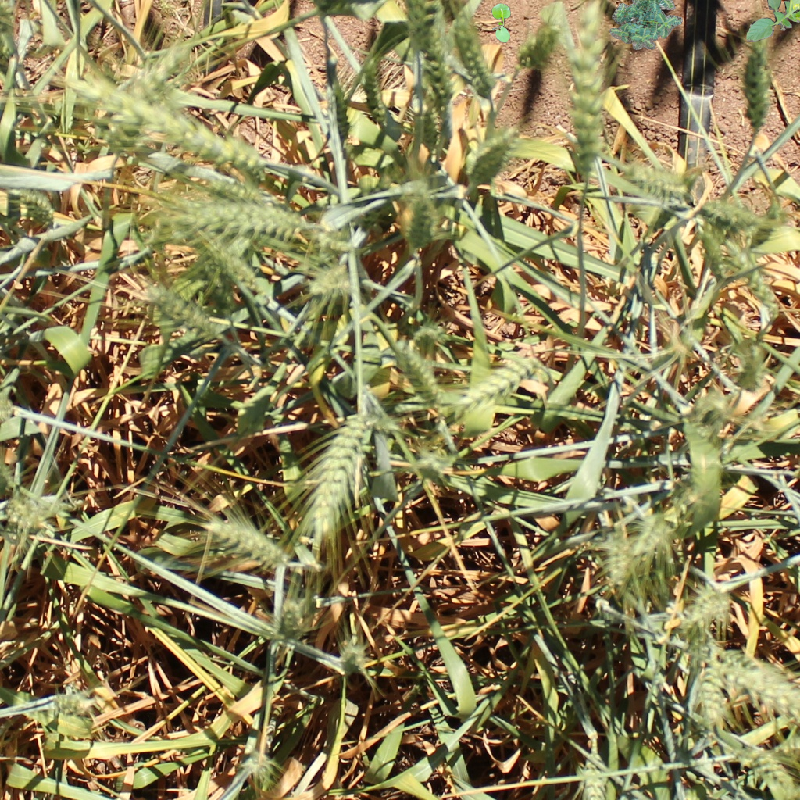spikelet: (303, 406, 377, 542), (101, 41, 199, 143), (127, 99, 267, 170), (560, 1, 615, 178), (167, 195, 309, 240), (402, 1, 458, 114), (718, 237, 783, 323), (723, 647, 800, 719), (137, 280, 228, 339), (198, 514, 291, 568), (457, 350, 542, 409), (447, 9, 496, 98), (618, 155, 693, 208), (390, 339, 445, 408), (463, 123, 522, 185), (737, 742, 799, 799), (394, 178, 441, 253), (1, 485, 66, 539), (196, 240, 263, 292), (739, 41, 777, 131), (686, 657, 732, 729), (354, 50, 393, 124), (680, 581, 734, 630), (268, 593, 317, 646), (728, 332, 771, 392), (699, 191, 763, 231), (611, 1, 672, 42), (515, 16, 561, 70), (685, 387, 733, 435), (600, 527, 639, 585), (630, 510, 675, 560), (303, 260, 356, 301), (573, 751, 614, 800), (14, 185, 59, 228), (50, 684, 97, 719), (411, 445, 453, 483), (334, 634, 370, 675), (239, 747, 277, 784), (410, 319, 449, 351)
weed: (609, 1, 683, 50), (746, 1, 800, 42), (491, 3, 511, 43)
